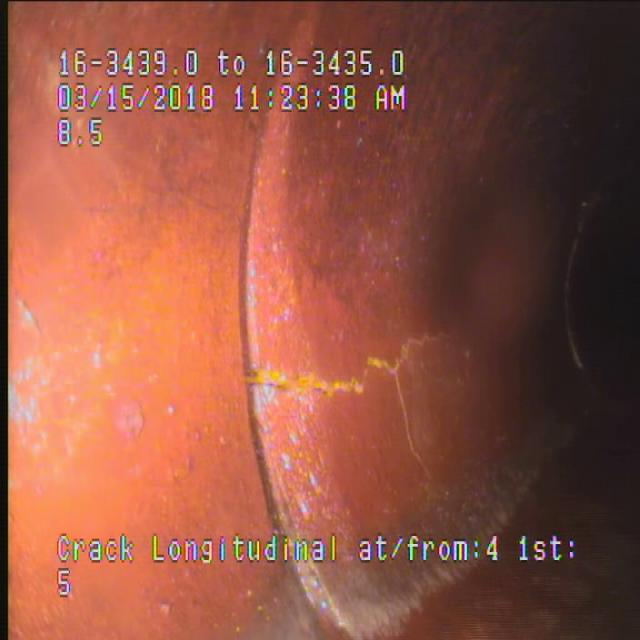Crack: (245, 294, 460, 457)
